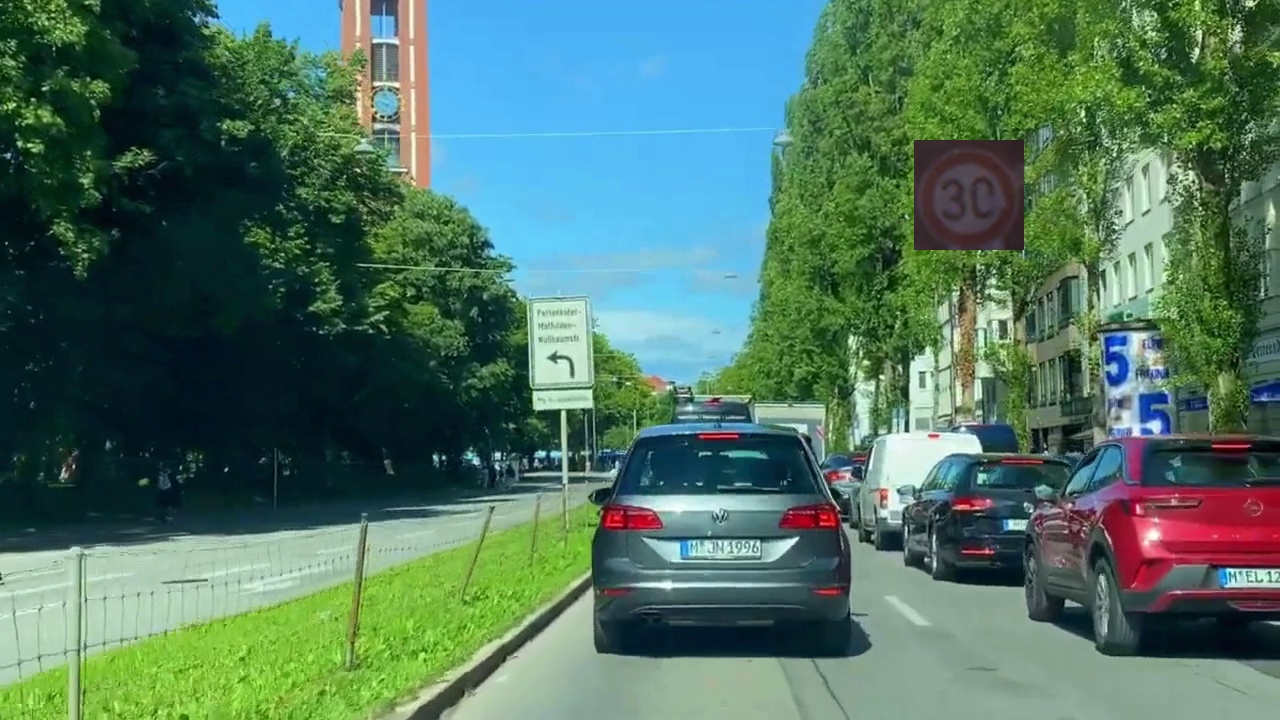Speed 30: (914, 140, 1024, 250)
